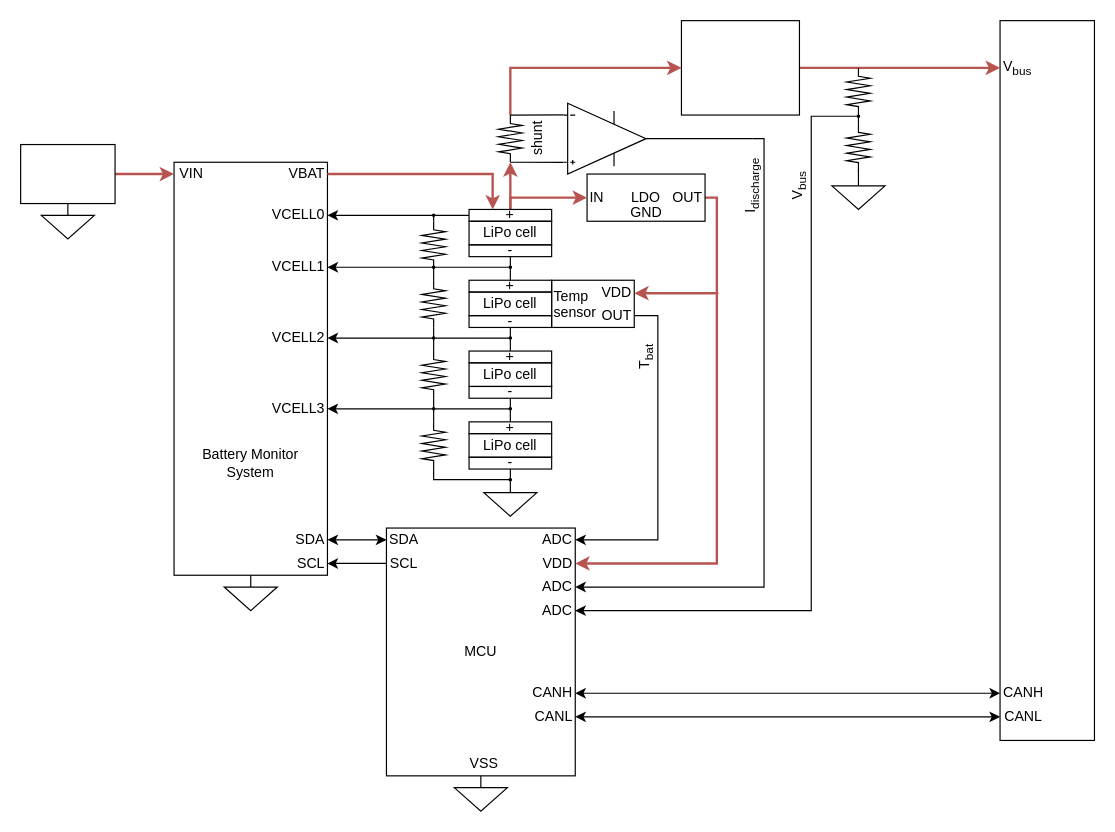
Image size: 1115x832. Some labels were removed from this diagram. The centre of each missing label's shape, as x and y in pixels:
"Buck-Boost converter IN: 10.8V-25.4V OUT: 12V" goes at (739,67).
"PC/104 Connector" goes at (1046,379).
"Power connector" goes at (67,173).
